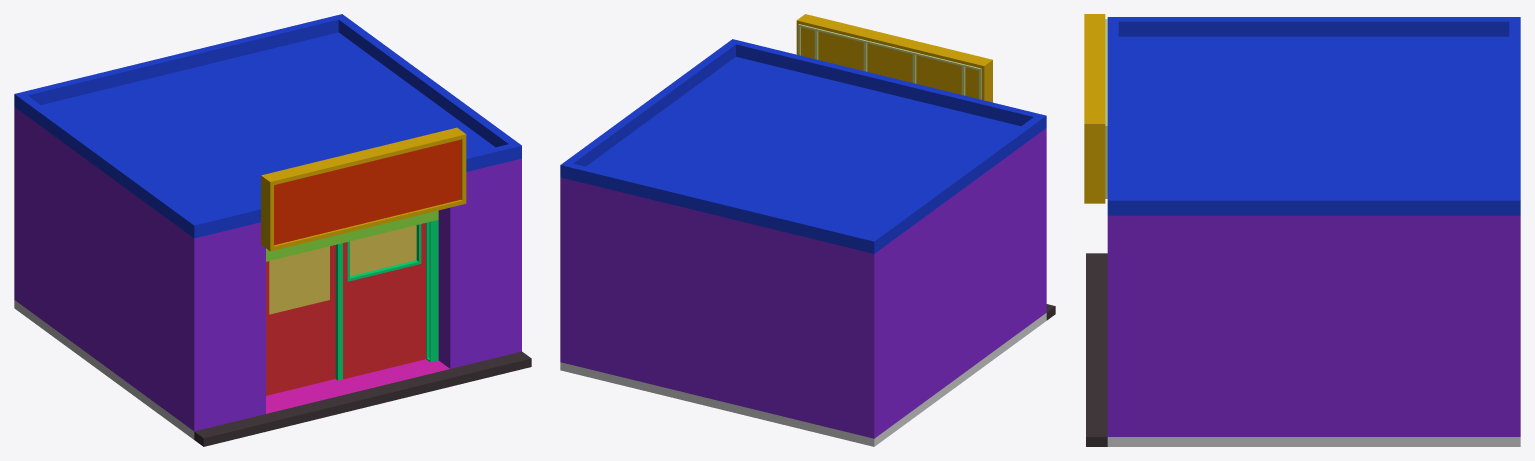
Rendered from shop 1 tri.fbx.
The picture shows the model from 3 angles, left to right: view 1: azimuth 30°, elevation 25°; view 2: azimuth 150°, elevation 25°; view 3: azimuth 270°, elevation 25°; orthographic projection. The views are drawn at different scales.
Parts seen in each view (by area): view 1: shop TRI; view 2: shop TRI; view 3: shop TRI.
Boxes of the visible parts, x1,y1,x2,y2 form: shop TRI: (14,14,531,446); shop TRI: (560,14,1055,446); shop TRI: (1084,14,1520,446).
Bounding box in the file's own units: 400 × 291 × 401.
